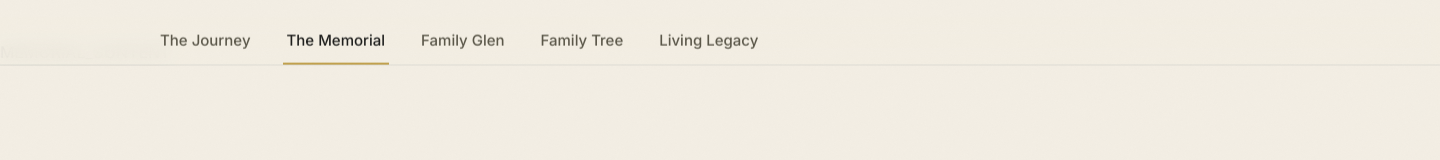
Test: tab content appears on the click itself › IMMEDIATELY after one click — no waiting, no second activation
The width and height of the screenshot is (1440, 160).
Click the tab "Family Glen": coordinates (463, 41) [405,17,520,65]
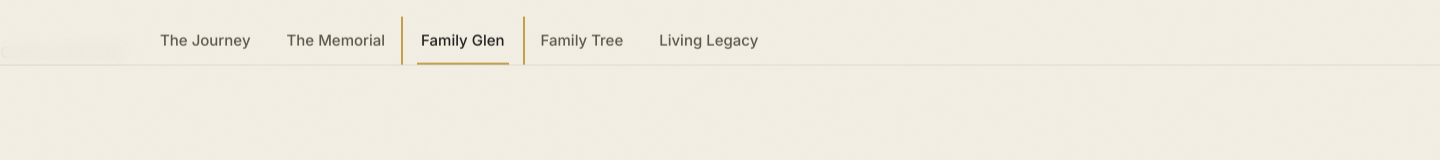
Check: the text "MEMORIAL_CONTENT" is gone
